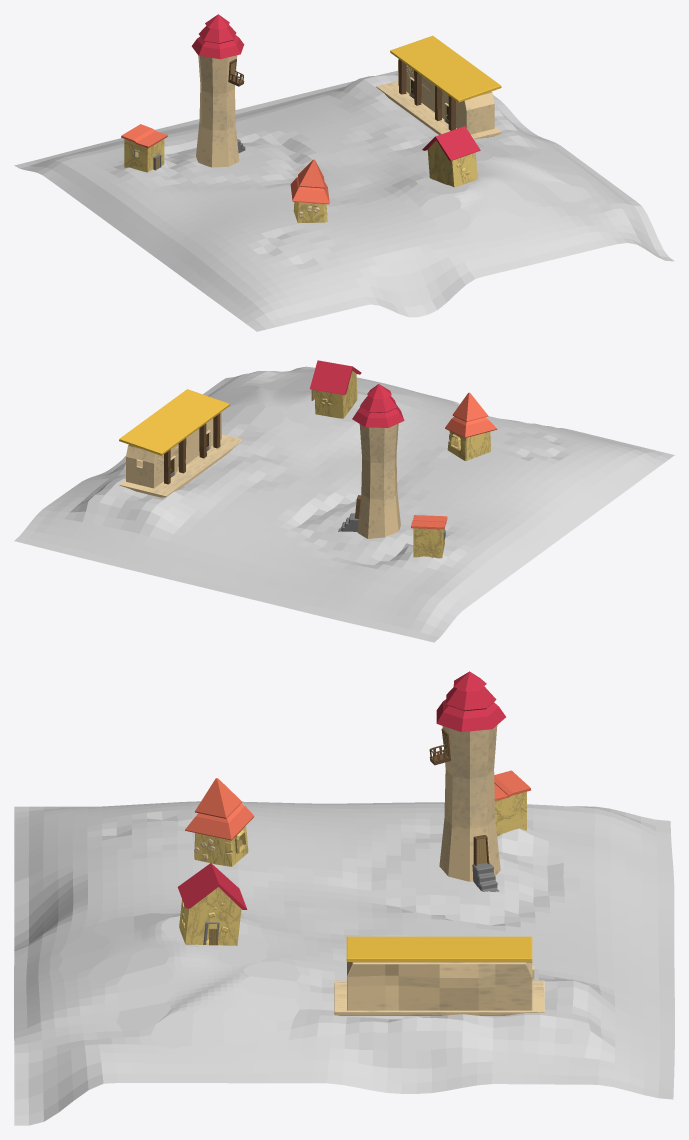
The model's file is terrainMVP.fbx.
The picture shows the model from 3 angles, top to bottom: view 1: azimuth 30°, elevation 25°; view 2: azimuth 150°, elevation 25°; view 3: azimuth 270°, elevation 25°; orthographic projection. The views are drawn at different scales.
Parts seen in each view (by area): view 1: Plane.001, Cube.003, Cylinder, Cube.002, Cube.005, Cube.004; view 2: Plane.001, Cube.003, Cylinder, Cube.002, Cube.005, Cube.004; view 3: Plane.001, Cube.003, Cylinder, Cube.002, Cube.005, Cube.004.
Part boxes in pixels (box(x1,y1,x2,y2)): Plane.001: box(14, 70, 674, 331); Cube.003: box(376, 35, 501, 139); Cylinder: box(191, 14, 245, 167); Cube.002: box(422, 126, 480, 187); Cube.005: box(290, 159, 329, 223); Cube.004: box(121, 124, 167, 172); Plane.001: box(14, 366, 674, 642); Cube.003: box(119, 389, 243, 497); Cylinder: box(338, 384, 404, 538); Cube.002: box(309, 360, 361, 418); Cube.005: box(445, 392, 497, 460); Cube.004: box(411, 515, 447, 558); Plane.001: box(14, 801, 674, 1125); Cube.003: box(334, 936, 544, 1015); Cylinder: box(429, 671, 505, 891); Cube.002: box(177, 863, 247, 945); Cube.005: box(185, 778, 254, 866); Cube.004: box(494, 770, 530, 836).
Bounding box in the file's own units: 14253 × 14217 × 6272.
